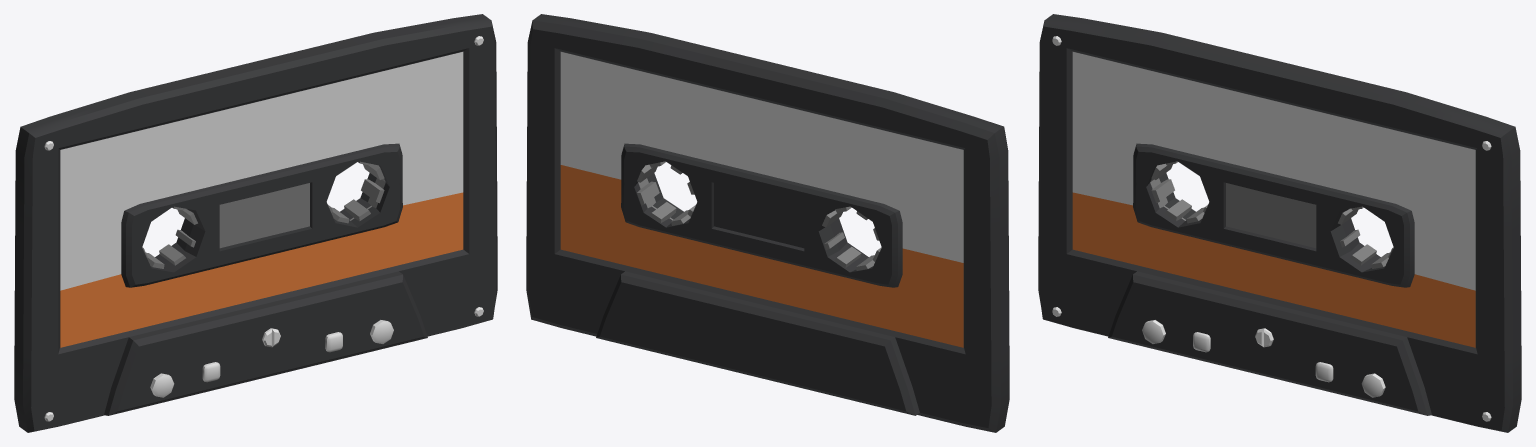
Rendered from cassette tape.fbx.
3 views of the same model, side by side, from view 1: azimuth 30°, elevation 25°; view 2: azimuth 150°, elevation 25°; view 3: azimuth 330°, elevation 25° (orthographic).
Visible parts, largest first — view 1: Cube; view 2: Cube; view 3: Cube.
Part boxes in pixels (<box>): Cube: <box>14,14,497,432</box>; Cube: <box>526,14,1009,432</box>; Cube: <box>1038,14,1521,432</box>.
Size of the model in its own units: 36.64 by 22.75 by 4.47.
